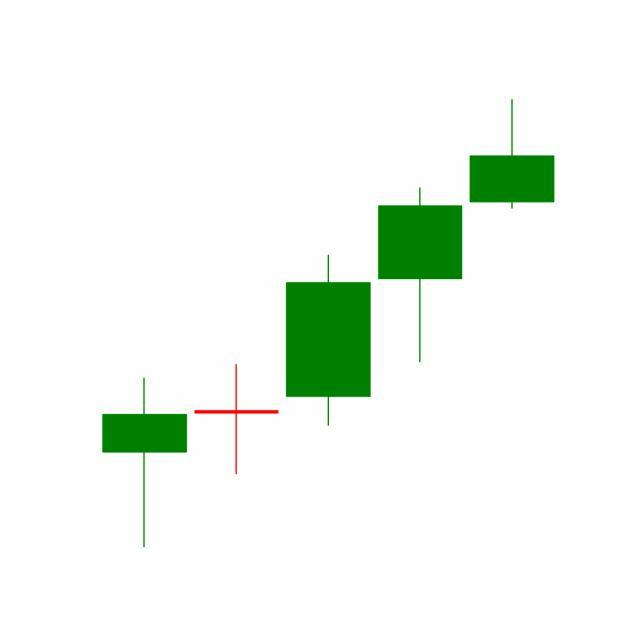Advance Block: (280, 99, 555, 431)
